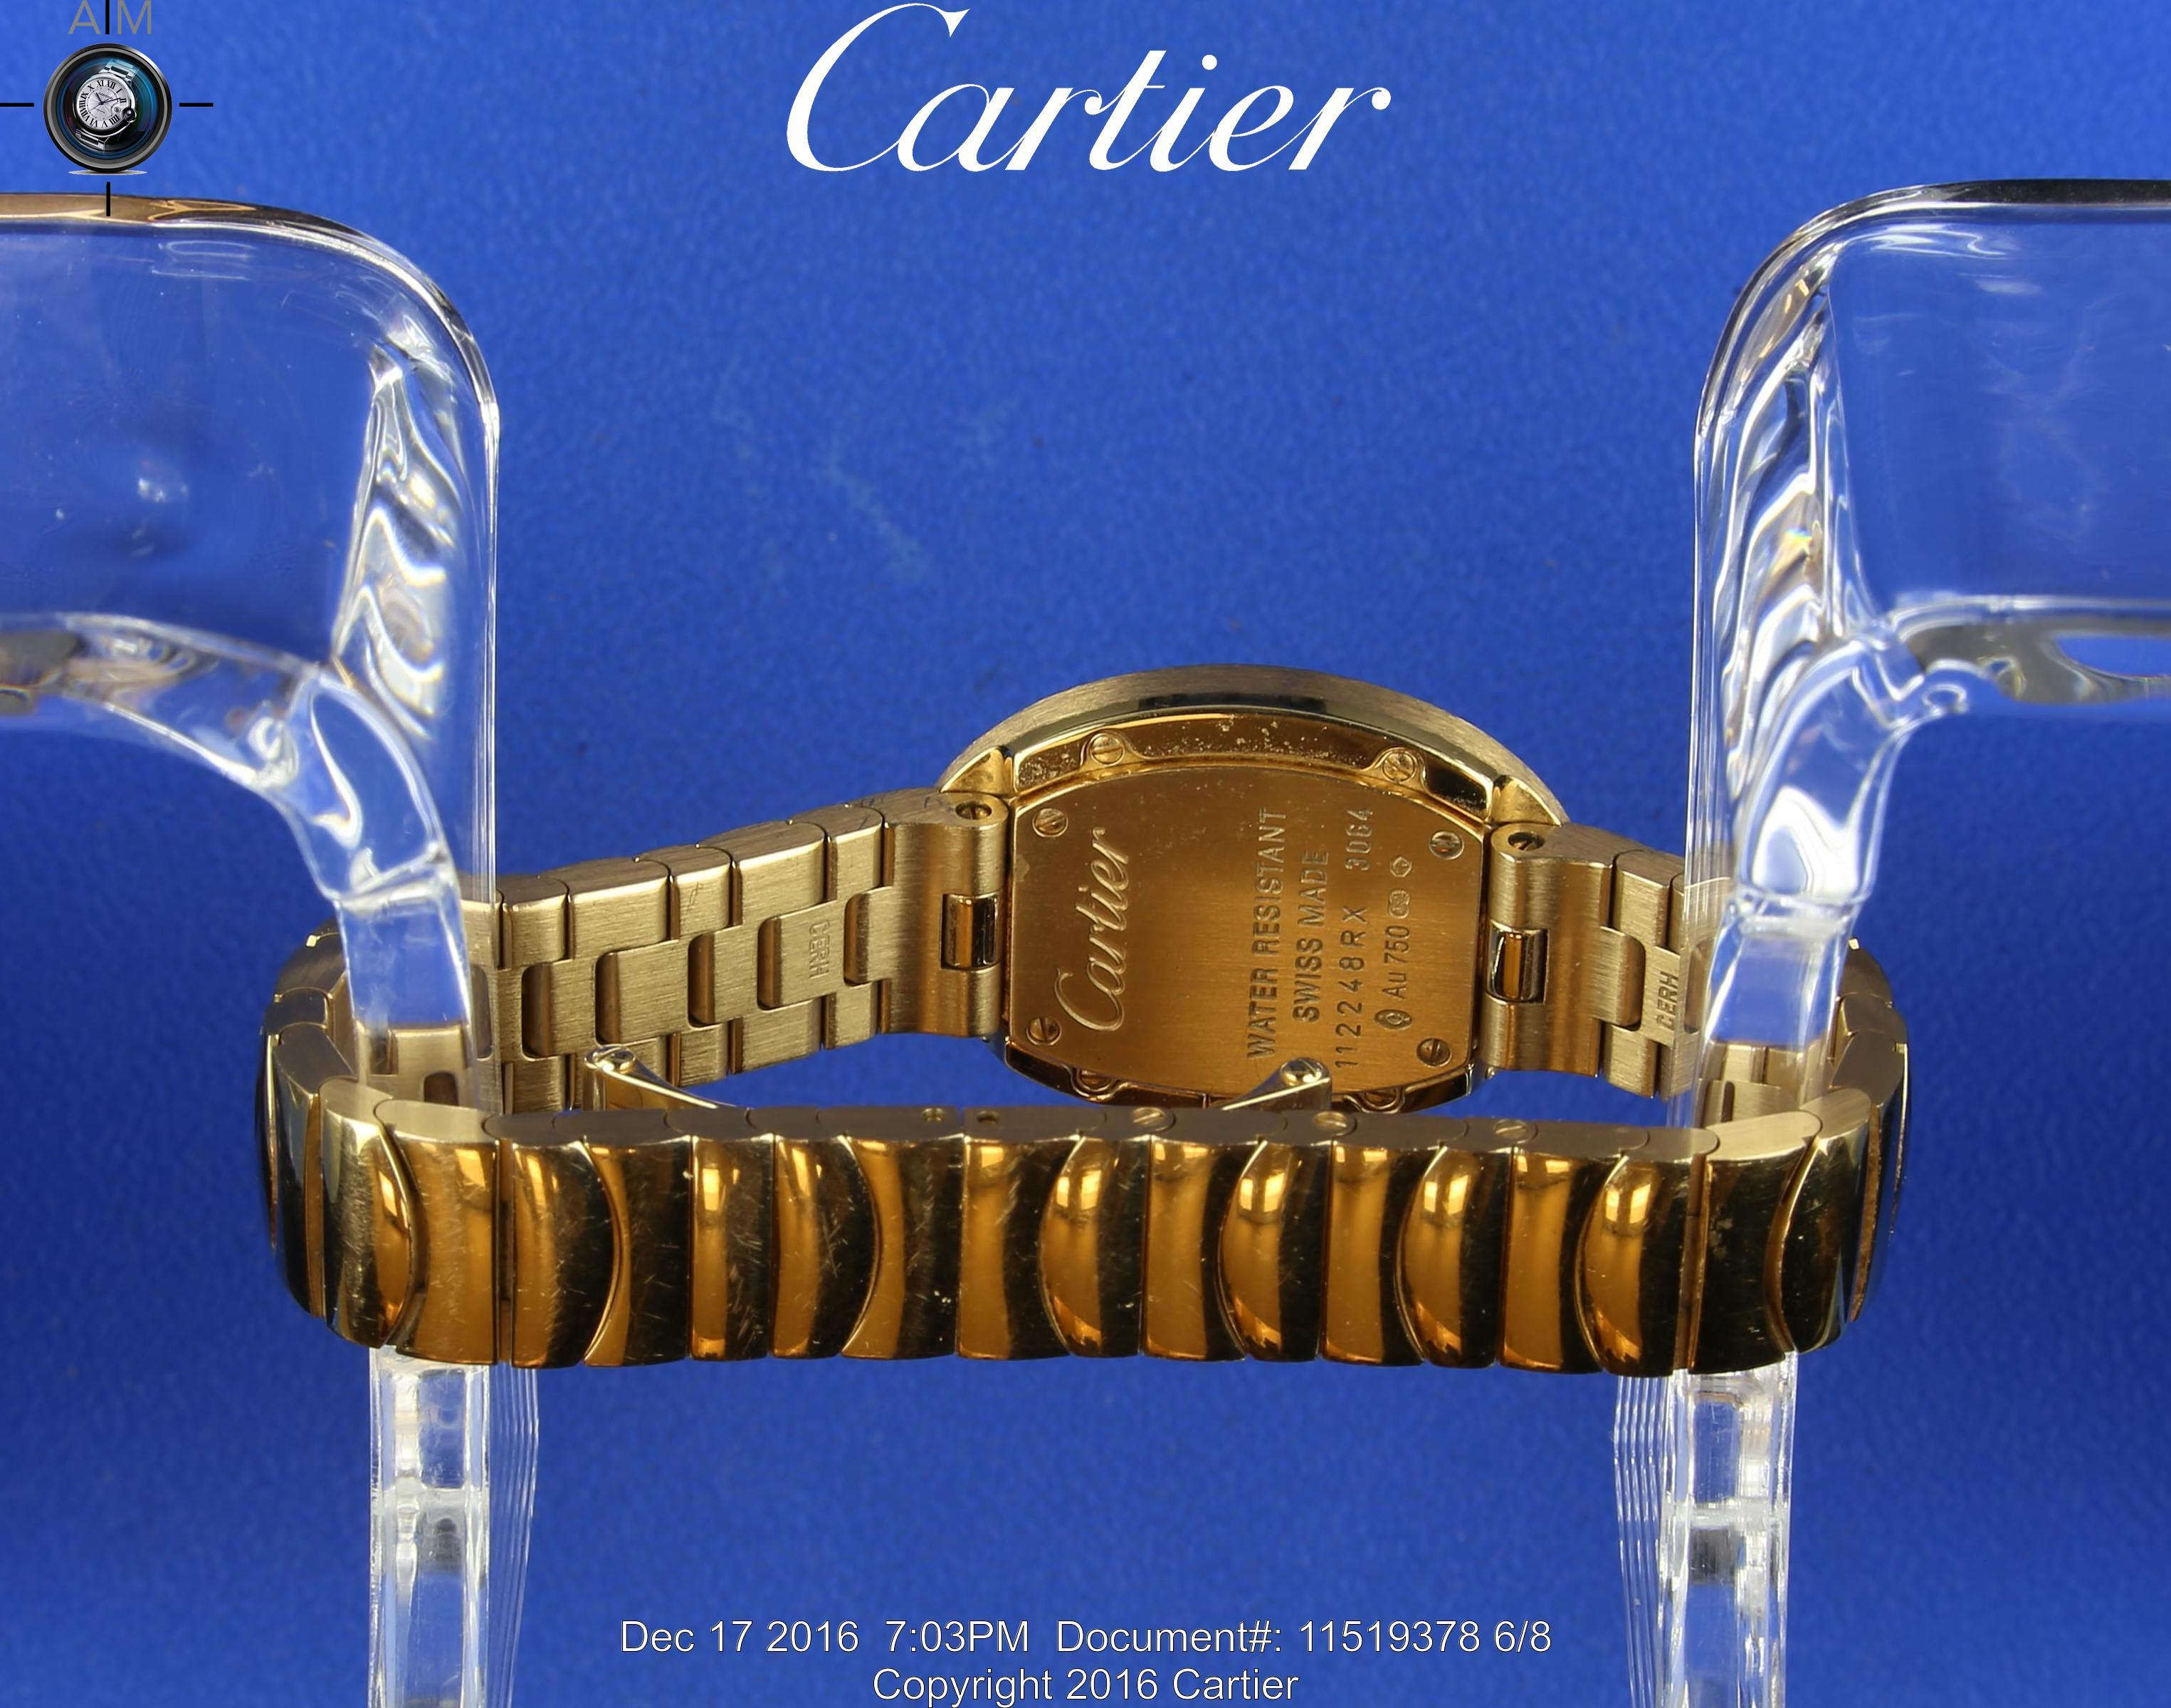Watch Back Case: (923, 654, 1575, 1114)
